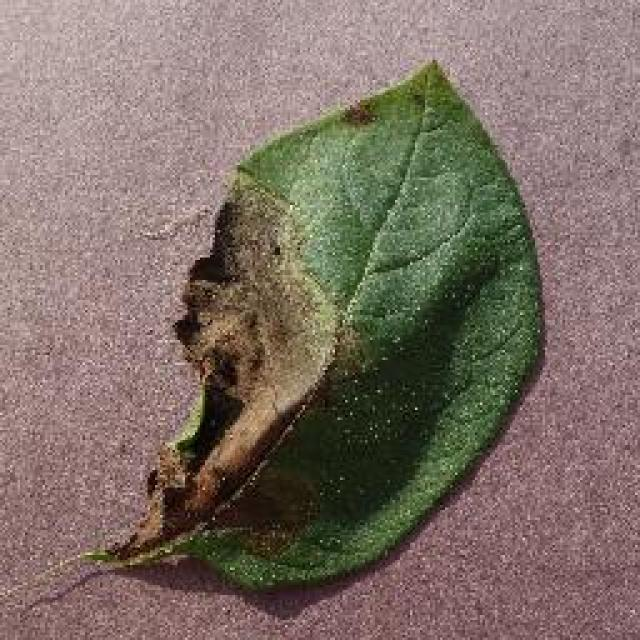Late_blight: (125, 155, 343, 566), (334, 84, 391, 142)
